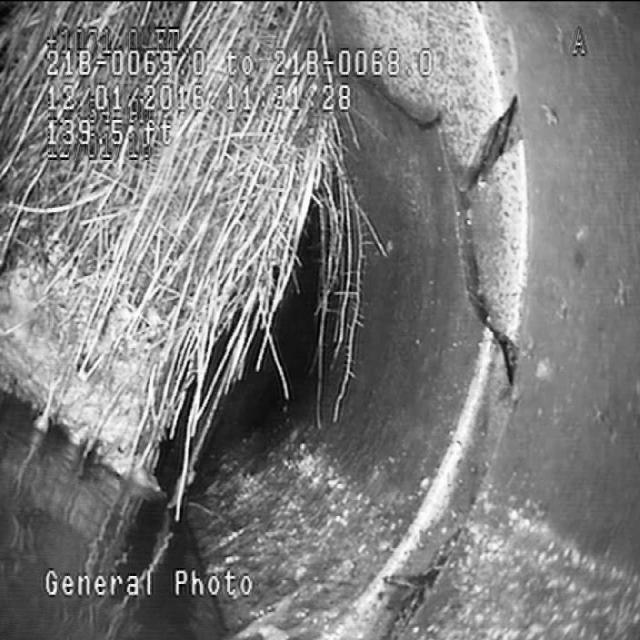Fracture: (450, 49, 544, 397)
